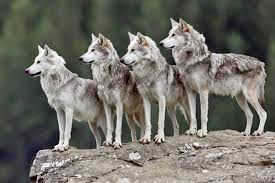Lobo: (159, 12, 269, 141), (22, 42, 88, 157), (78, 33, 132, 152), (119, 31, 171, 137)
